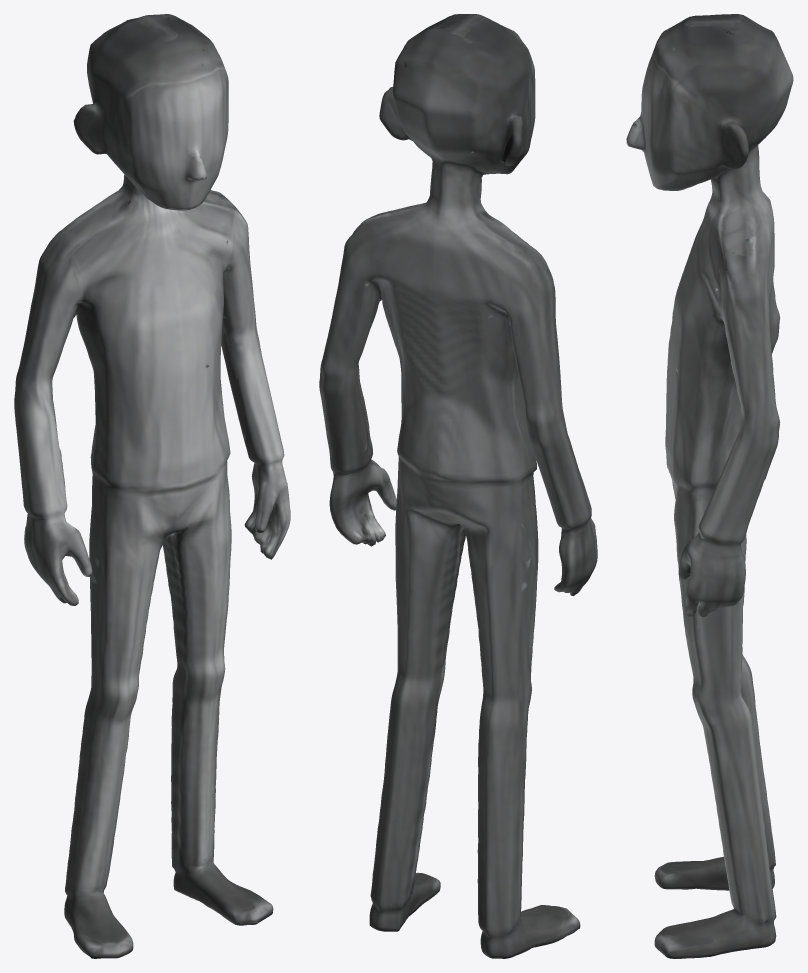
The model's file is man.glb.
The picture shows the model from 3 angles, left to right: view 1: azimuth 30°, elevation 25°; view 2: azimuth 150°, elevation 25°; view 3: azimuth 270°, elevation 25°; orthographic projection.
Visible parts, largest first — view 1: Mesh_0; view 2: Mesh_0; view 3: Mesh_0.
Boxes of the visible parts, left/top/right/bottom form: Mesh_0: left=14, top=14, right=290, bottom=958; Mesh_0: left=319, top=14, right=597, bottom=958; Mesh_0: left=626, top=14, right=793, bottom=958.
Size of the model in its own units: 0.5884 by 2 by 0.3388.
Materials: 1 (1 with a texture image).
